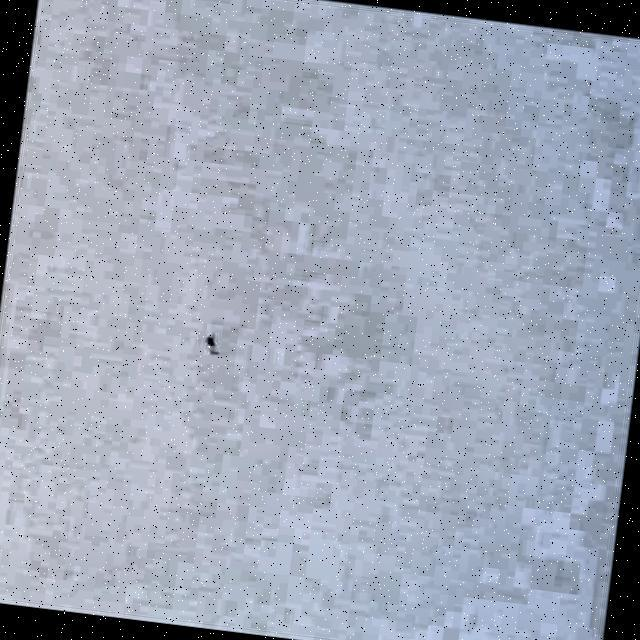iha: (192, 323, 238, 376)
